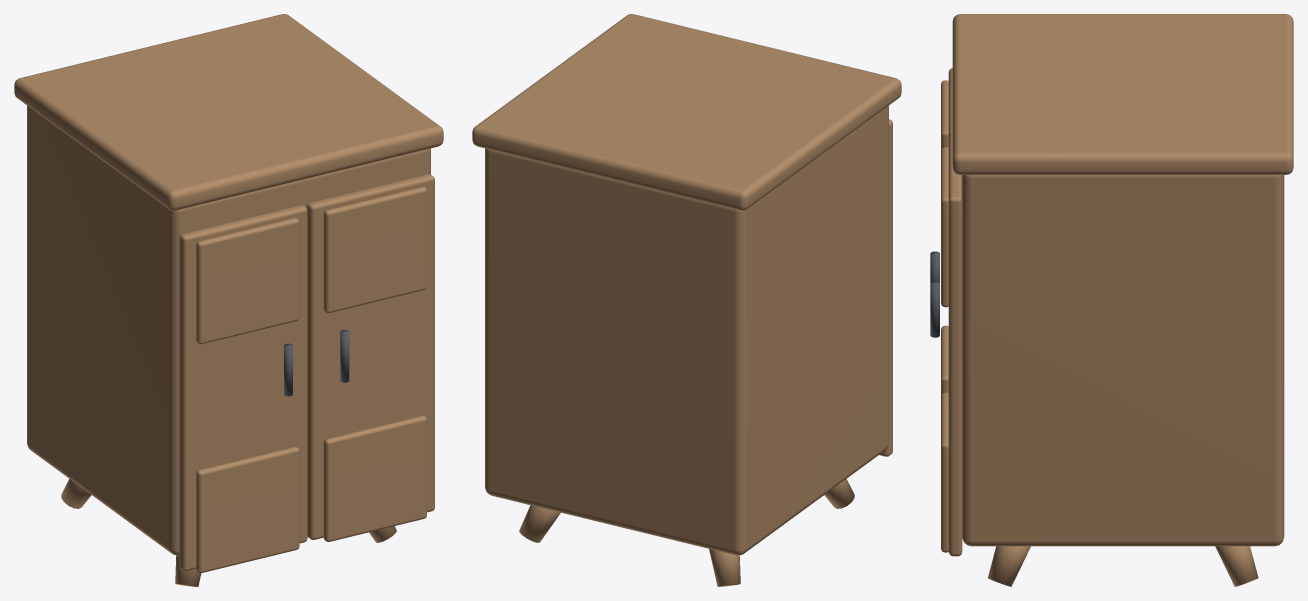
The model's file is atelier-base-kitchen-cabinet.glb.
3 renders of one model, left to right at view 1: azimuth 30°, elevation 25°; view 2: azimuth 150°, elevation 25°; view 3: azimuth 270°, elevation 25°, orthographic. The views are drawn at different scales.
Visible parts, largest first — view 1: legs.153, metal.112; view 2: legs.153; view 3: legs.153, metal.112.
Boxes of the visible parts, left/top/right/bottom form: legs.153: left=14, top=14, right=443, bottom=586; metal.112: left=284, top=330, right=349, bottom=396; legs.153: left=472, top=14, right=901, bottom=586; legs.153: left=941, top=14, right=1293, bottom=586; metal.112: left=930, top=251, right=939, bottom=337.
Bounding box in the file's own units: 0.635 × 0.9293 × 0.6765.
